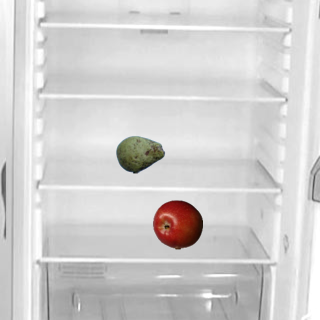Apple Braeburn: (152, 199, 202, 249)
Pear Stone: (115, 129, 165, 179)
